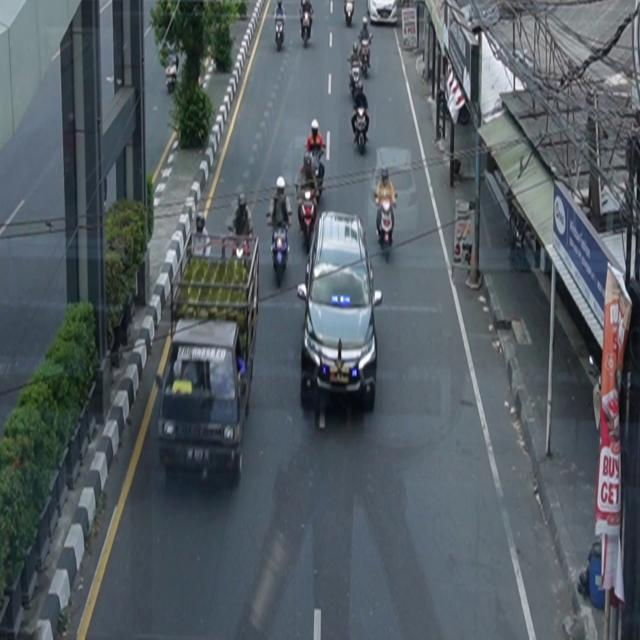car: (298, 211, 384, 416)
truck: (157, 231, 261, 487)
